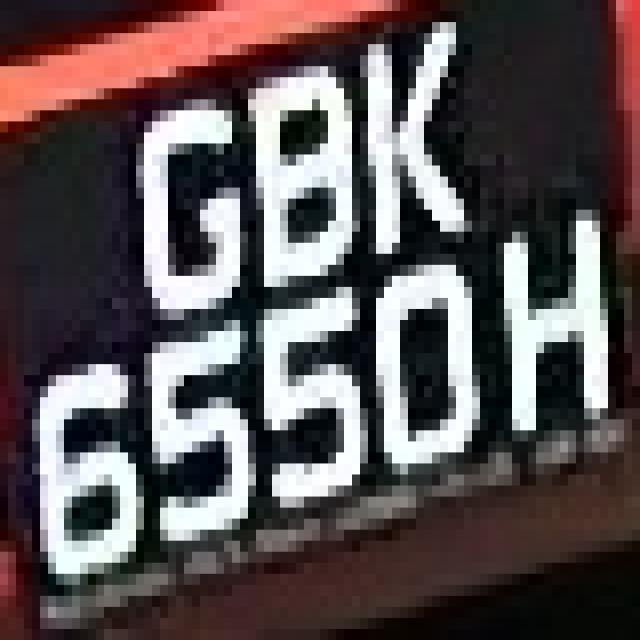0: (352, 232, 464, 508)
5: (240, 264, 392, 518), (136, 276, 232, 552)
6: (32, 331, 152, 585)
B: (224, 55, 352, 320)
G: (96, 55, 248, 309)
H: (480, 198, 624, 464)
K: (344, 22, 472, 298)
